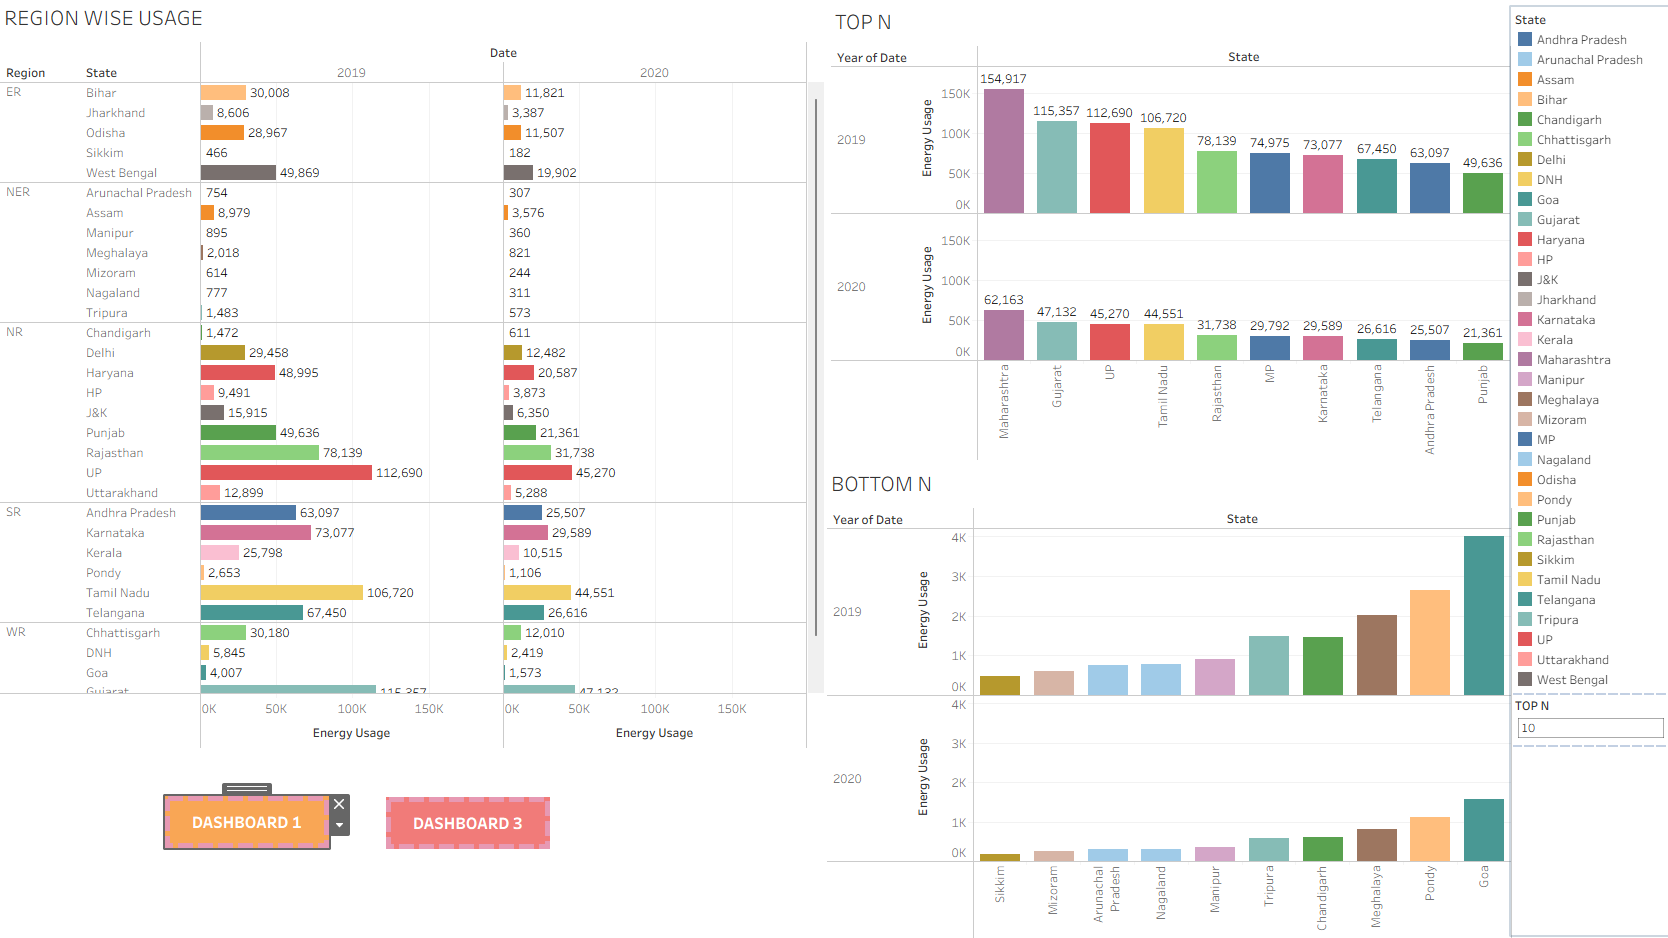

The dashboard page shown, as its layout file describes it:
{"tool":"tableau","page":{"name":"Dashboard 2","canvas":[1000,1000],"units":"permille","ordinal":1},"visuals":[{"type":"worksheet","title":"REGION WISE USAGE","mark":"Automatic","rows":["Region","State"],"cols":["Date","Energy_Usage"],"box":[0,0,490.8,794.5]},{"type":"worksheet","title":"TOP N","mark":"Automatic","rows":["Date","Energy_Usage"],"cols":["State"],"box":[494.9,4.2,405,485.2]},{"type":"legend","title":"REGION WISE USAGE","param":"[federated.0mn6zz11gk0i8i1eq4oh012q122a].[none:State:nk]","box":[900,8.5,95.3,726.7]},{"type":"worksheet","title":"BOTTOM N","mark":"Automatic","rows":["Date","Energy_Usage"],"cols":["State"],"box":[492.6,493.6,408,505.3]},{"type":"parameter","param":"[Parameters].[Parameter 1]","box":[900,735.2,95.3,55.1]},{"type":"dashboard-object","box":[98.3,844.3,97.7,55.1]},{"type":"dashboard-object","box":[229.9,845.3,97.7,55.1]}]}

Visuals, with their boxes on the dashboard's canvas, which has no fixed pixel size, in thousandths of its width and height (x1, y1, x2, y2). These are canvas units, not pixel positions in the 1668x938 screenshot, which may show the page scaled, cropped or inside an application window:
"REGION WISE USAGE" worksheet: detection(0, 0, 491, 794)
"TOP N" worksheet: detection(495, 4, 900, 489)
"REGION WISE USAGE" legend: detection(900, 8, 995, 735)
"BOTTOM N" worksheet: detection(493, 494, 901, 999)
parameter: detection(900, 735, 995, 790)
dashboard-object: detection(98, 844, 196, 899)
dashboard-object: detection(230, 845, 328, 900)
